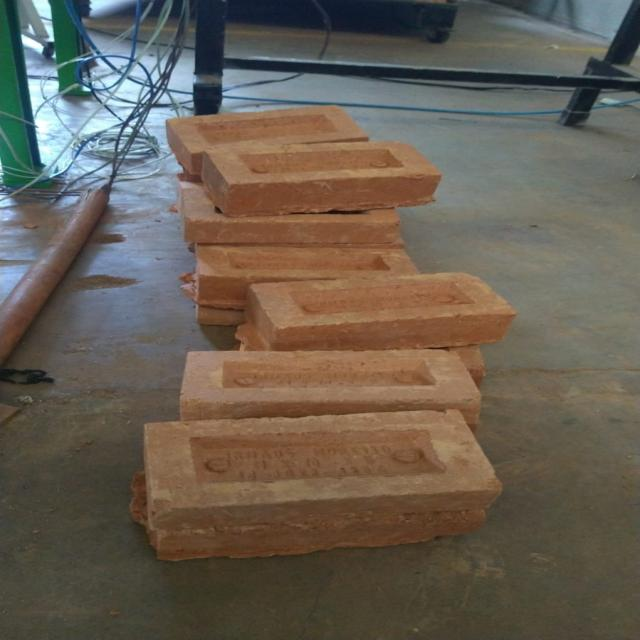bricks: (143, 411, 506, 528), (173, 350, 484, 420), (247, 272, 513, 346), (144, 512, 495, 563), (198, 142, 440, 214), (167, 105, 377, 182), (192, 244, 420, 307), (180, 182, 408, 243)
